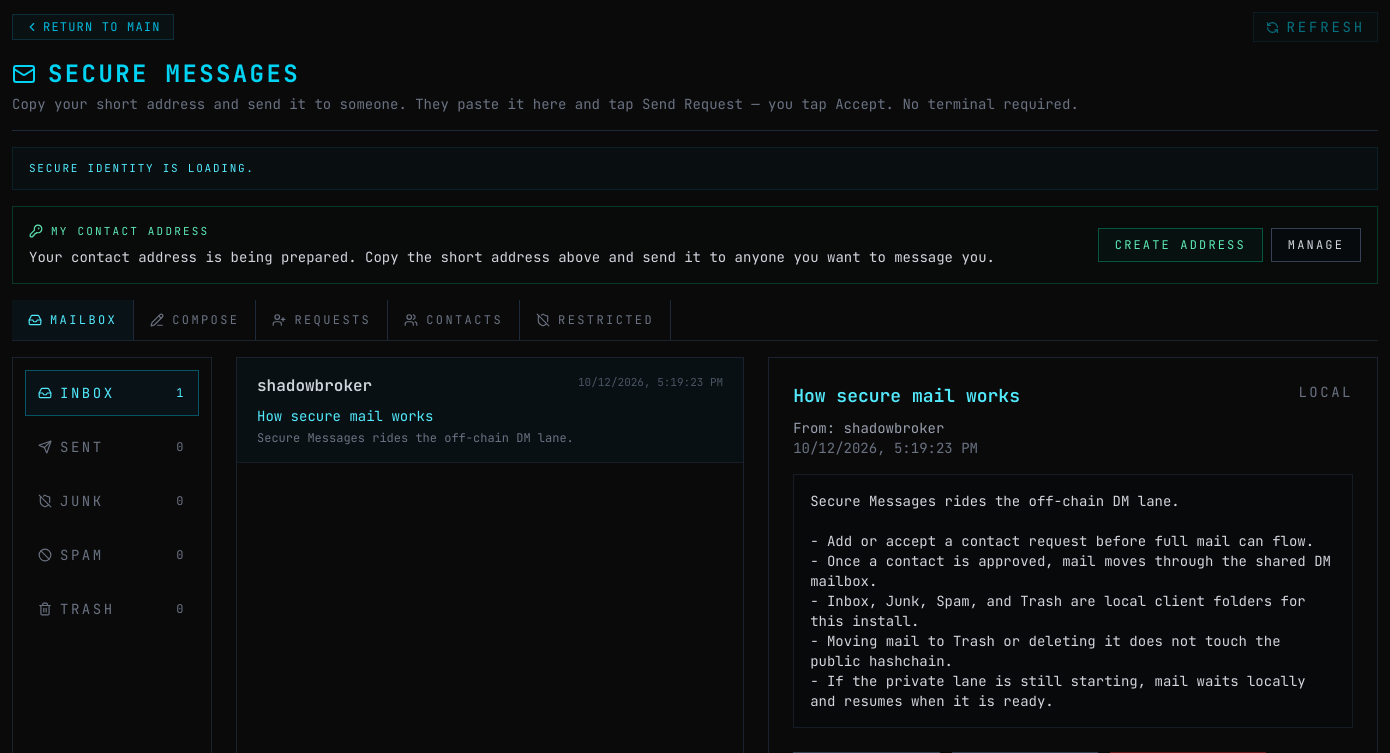
Test: MessagesView first-contact trust UX › surfaces pending contact requests in a top-level requests tab with approve and deny actions
Click the button "REQUESTS".
click(322, 320)  # box [256, 300, 388, 340]
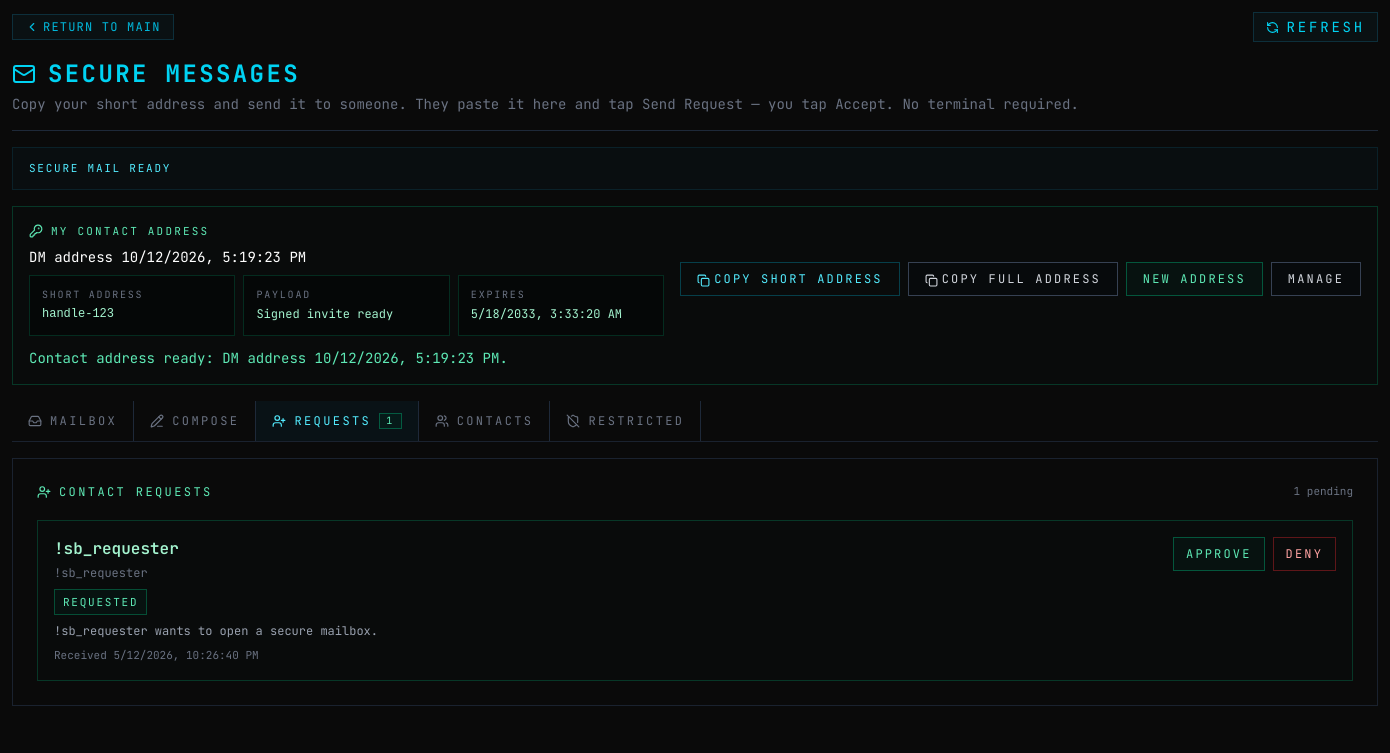
Result: the text "Contact Requests" is shown at [37, 484, 213, 500]
Result: the text "1 pending" is shown at [1294, 483, 1353, 500]
Result: the text "!sb_requester" is shown 2 times at [54, 538, 179, 559]; [54, 565, 148, 581]
Click the button "Approve".
click(1219, 554)  # box [1173, 537, 1264, 571]
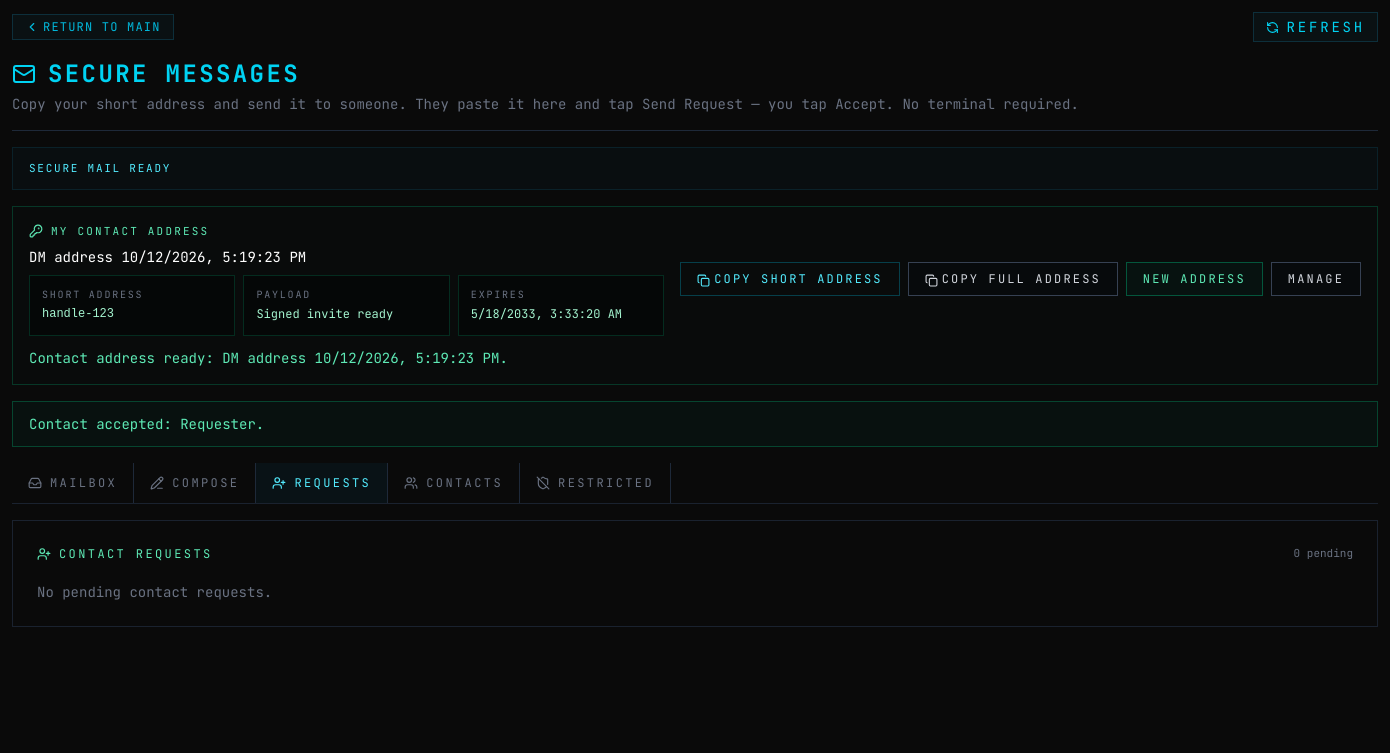
Result: the text "Contact accepted: Requester." is shown at [12, 401, 1378, 447]
